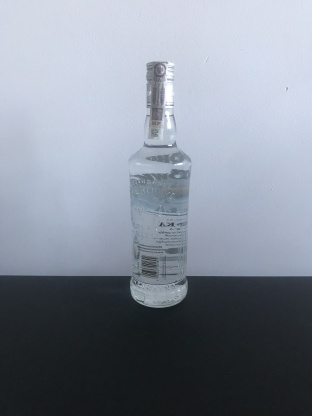nakretka: (143, 57, 177, 111)
